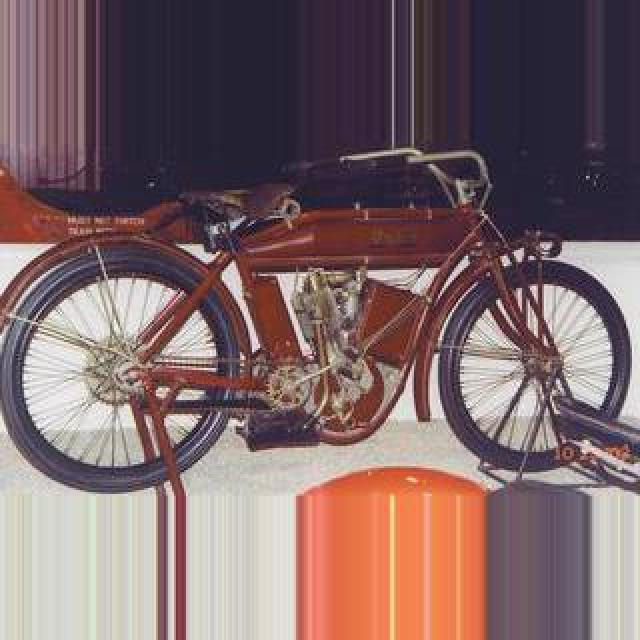Person: (6, 155, 622, 475)
